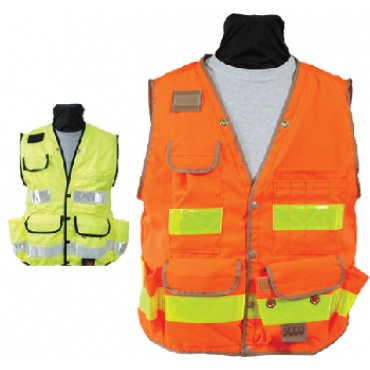safety vest: (142, 58, 357, 356), (18, 127, 120, 266)
